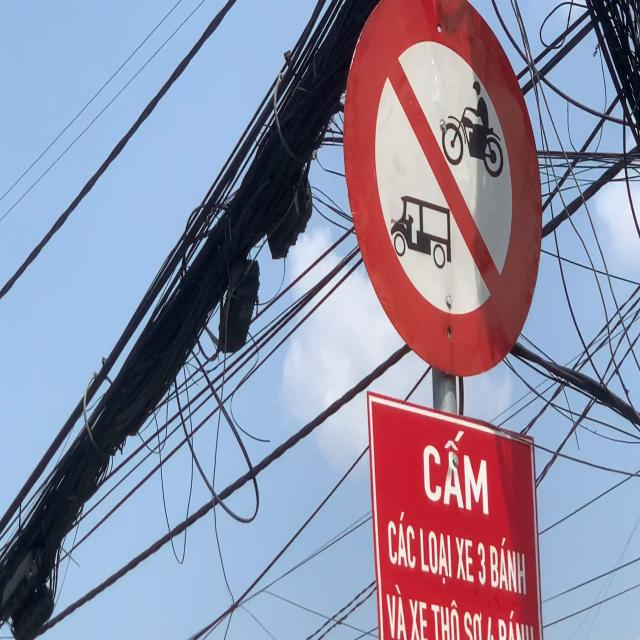Cam con lai: (342, 0, 545, 382)
